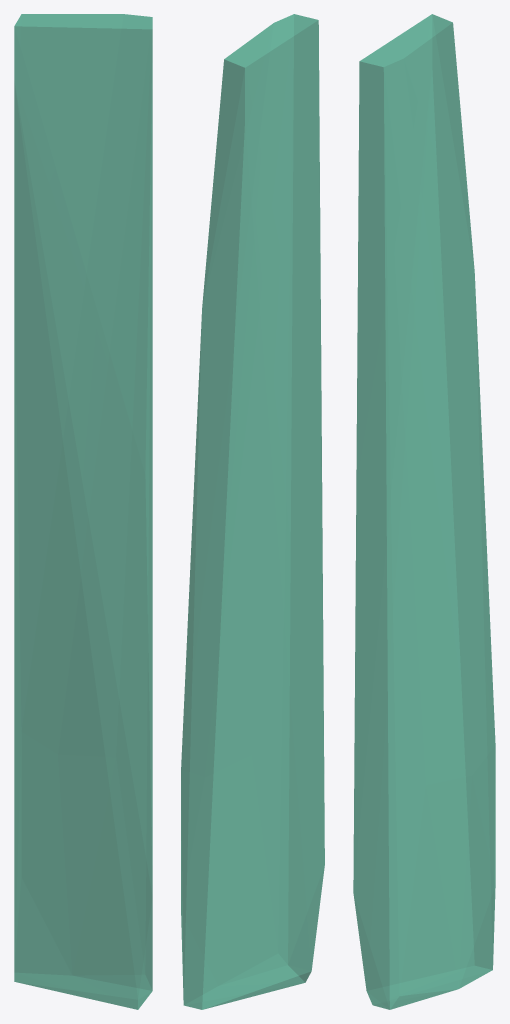
3 views of the same model, side by side, from view 1: azimuth 90°, elevation 25°; view 2: azimuth 150°, elevation 25°; view 3: azimuth 330°, elevation 25° (orthographic). The views are drawn at different scales.
Parts seen in each view (by area): view 1: Shape_IndexedFaceSet.069_Shape_IndexedFaceSet.9877; view 2: Shape_IndexedFaceSet.069_Shape_IndexedFaceSet.9877; view 3: Shape_IndexedFaceSet.069_Shape_IndexedFaceSet.9877.
Boxes of the visible parts, x1,y1,x2,y2 form: Shape_IndexedFaceSet.069_Shape_IndexedFaceSet.9877: (14, 14, 152, 1009); Shape_IndexedFaceSet.069_Shape_IndexedFaceSet.9877: (181, 14, 324, 1009); Shape_IndexedFaceSet.069_Shape_IndexedFaceSet.9877: (353, 14, 495, 1009).
Bounding box in the file's own units: 0.0738 × 0.846 × 0.1079.
